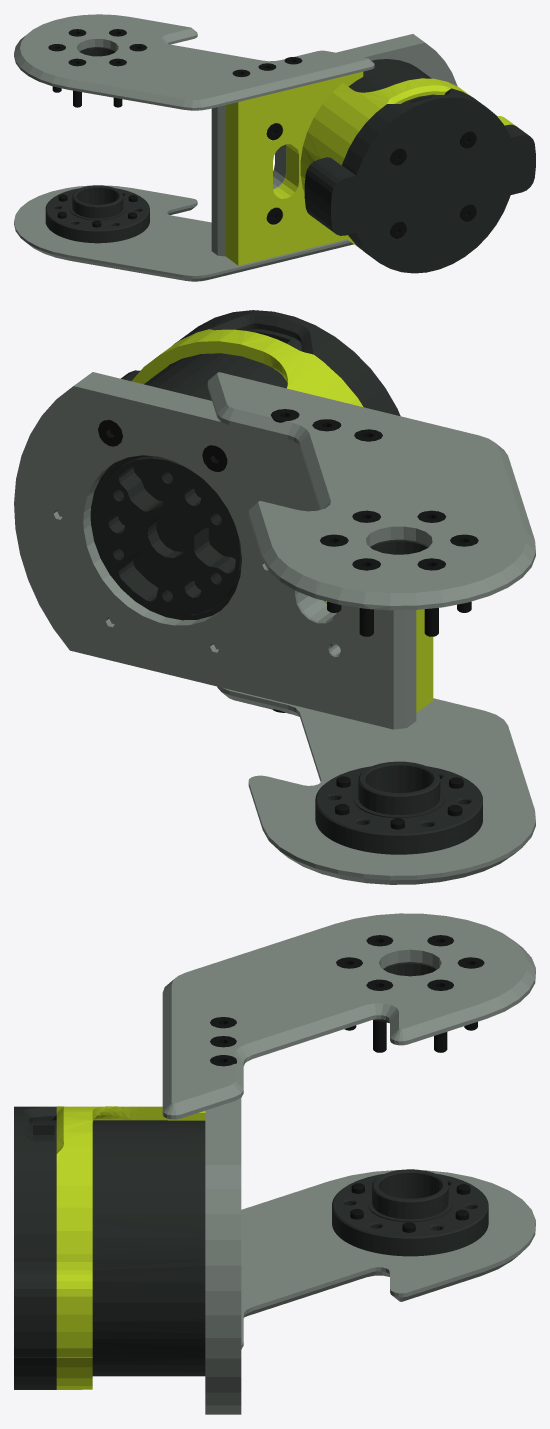
Rendered from colored_link4.dae.
The picture shows the model from 3 angles, top to bottom: view 1: azimuth 30°, elevation 25°; view 2: azimuth 150°, elevation 25°; view 3: azimuth 270°, elevation 25°; orthographic projection. The views are drawn at different scales.
Parts seen in each view (by area): view 1: link4; view 2: link4; view 3: link4.
Part boxes in pixels (<box>): link4: <box>14,14,535,281</box>; link4: <box>14,310,535,884</box>; link4: <box>14,913,535,1414</box>.
Bounding box in the file's own units: 0.1458 × 0.1159 × 0.0668.
